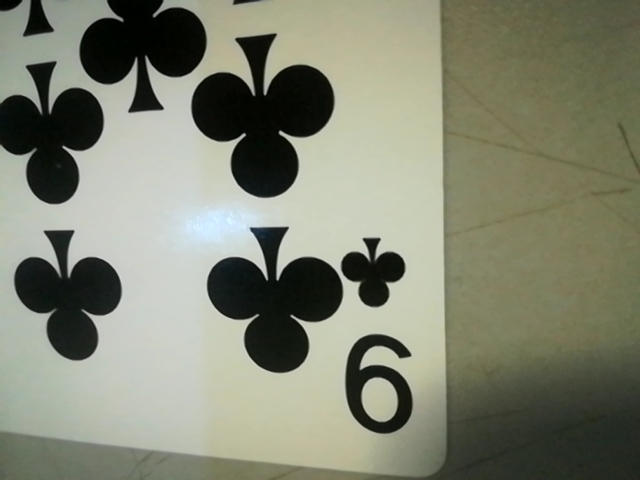mh 9: (330, 222, 437, 457)
